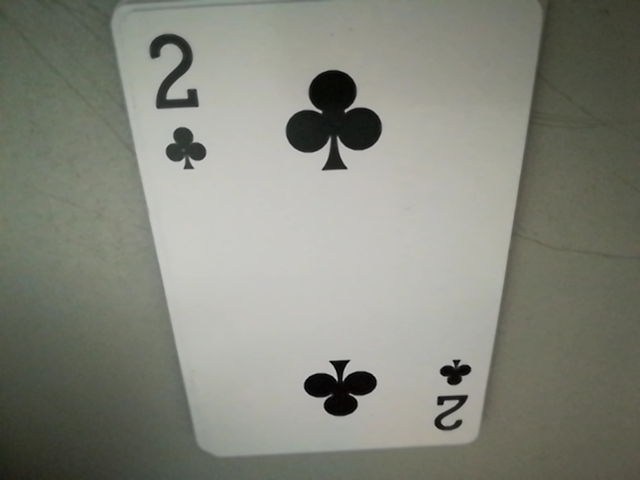mh 2: (133, 17, 210, 173), (425, 354, 480, 436)
